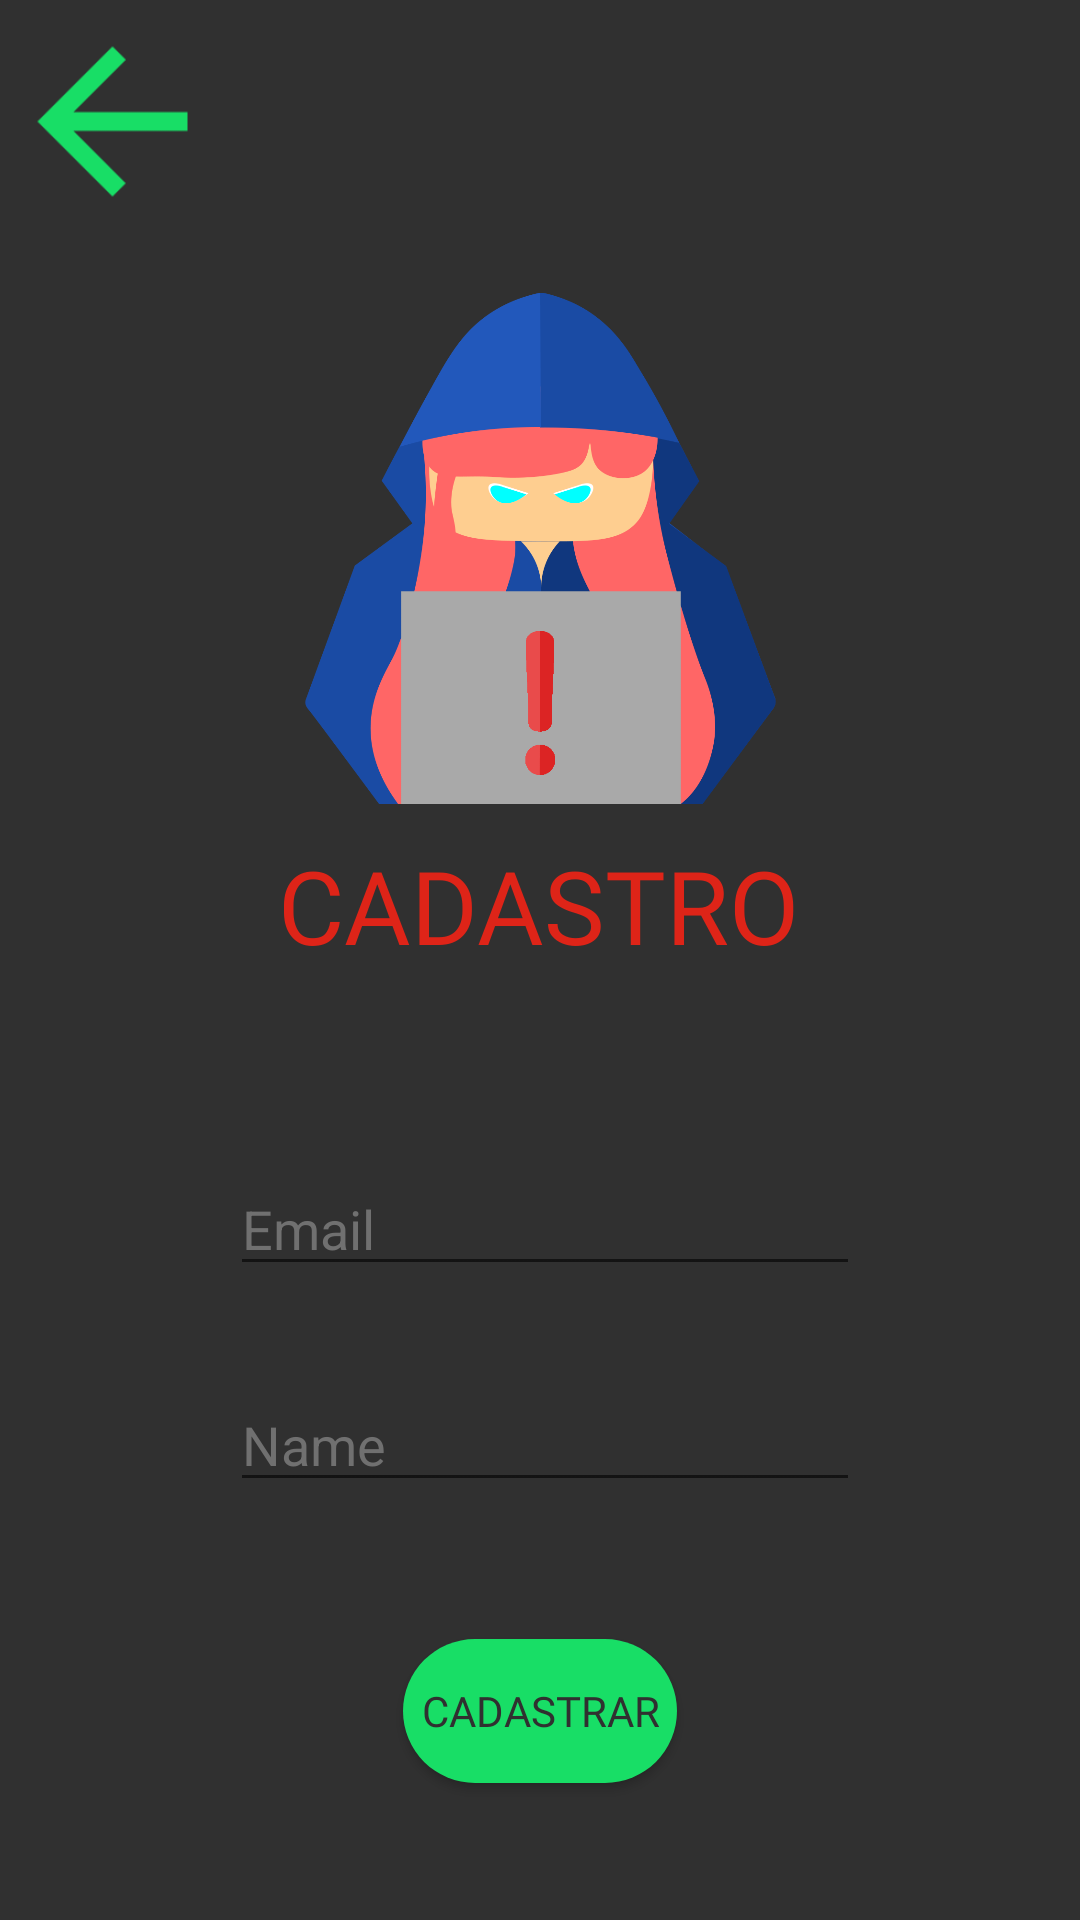

Locate icon controls on the screen. Image size 1080 × 1920, boxes as (x1,y1,x2,y2).
voltar: (37,46,188,197)
